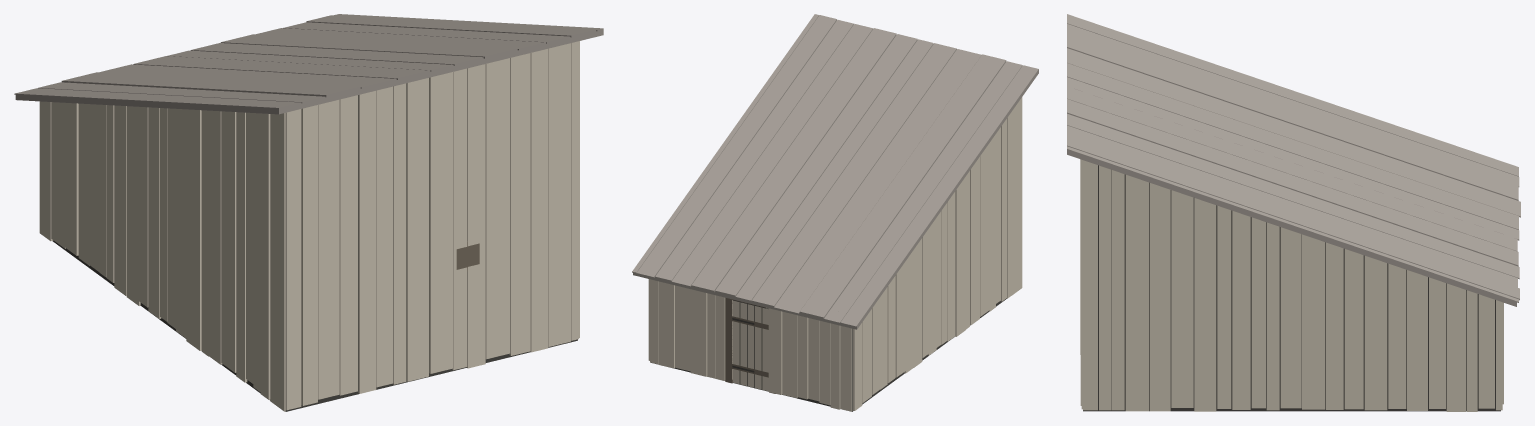
Rendered from recon_1835_north_d2_046__inferred_1835.glb.
The picture shows the model from 3 angles, left to right: view 1: azimuth 30°, elevation 25°; view 2: azimuth 150°, elevation 25°; view 3: azimuth 270°, elevation 25°; orthographic projection. The views are drawn at different scales.
Parts seen in each view (by area): view 1: recon_1835_north_d2_046__inferred_1835; view 2: recon_1835_north_d2_046__inferred_1835; view 3: recon_1835_north_d2_046__inferred_1835.
Part boxes in pixels (<box>): recon_1835_north_d2_046__inferred_1835: <box>14,14,603,411</box>; recon_1835_north_d2_046__inferred_1835: <box>632,14,1038,411</box>; recon_1835_north_d2_046__inferred_1835: <box>1067,14,1520,411</box>.
Bounding box in the file's own units: 5.26 × 4.9 × 7.46.
